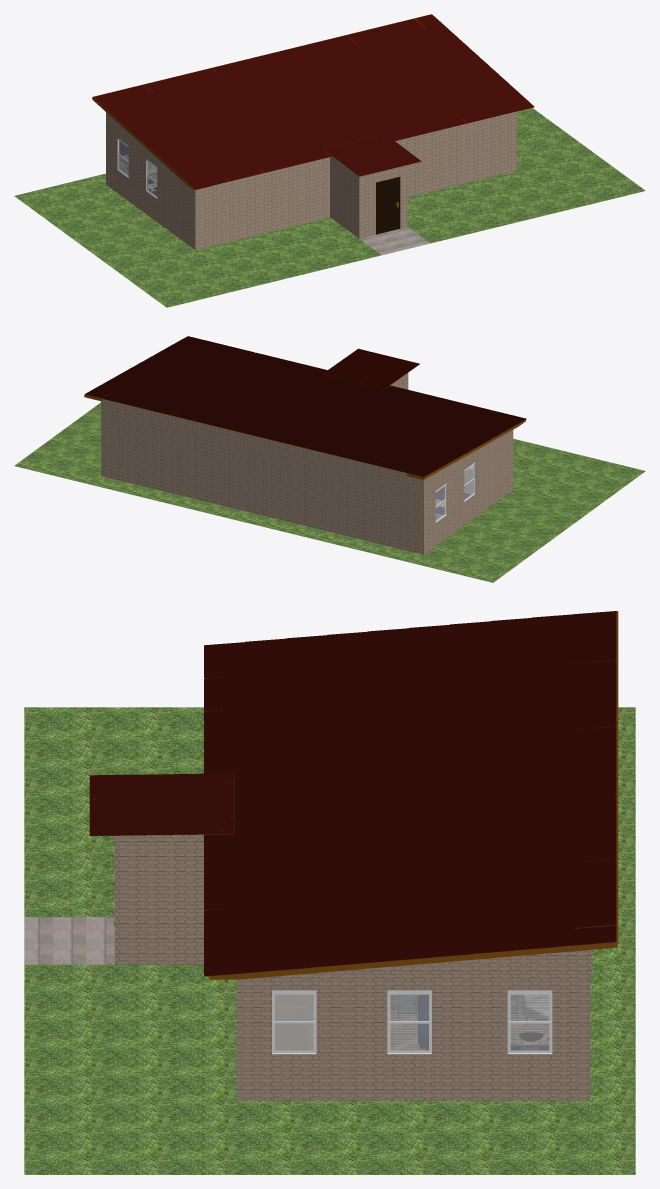
Rendered from Home.obj.
3 renders of one model, top to bottom at view 1: azimuth 30°, elevation 25°; view 2: azimuth 150°, elevation 25°; view 3: azimuth 270°, elevation 25°, orthographic. The views are drawn at different scales.
Parts seen in each view (by area): view 1: Tuile_1_879, room_31_185, room_32_186, wall_18_121, wall_7_45, wall_13_87, Tuile_1_883, wall_10_66, wall_9_59, wall_19_127, sweethome3d_opening_on_hinge_1_door_215, room_34_188 (+1 smaller); view 2: Tuile_1_879, wall_14_94, room_31_185, wall_4_24, wall_27_176, room_33_187, room_32_186, wall_13_87, Tuile_1_883, wall_19_127, wall_20_134, Planche_4_882 (+1 smaller); view 3: Tuile_1_879, room_32_186, wall_1_4, room_31_185, wall_6_38, wall_8_52, room_33_187, Tuile_1_883, room_34_188, wall_26_170, Poutre_2_880, room_29_181 (+8 smaller).
Boxes of the visible parts, x1,y1,x2,y2 form: Tuile_1_879: (93, 14, 534, 189); room_31_185: (14, 176, 381, 307); room_32_186: (407, 108, 645, 243); wall_18_121: (195, 157, 329, 249); wall_7_45: (395, 111, 516, 196); wall_13_87: (106, 122, 168, 230); Tuile_1_883: (324, 134, 421, 176); wall_10_66: (330, 156, 359, 238); wall_9_59: (359, 165, 407, 238); wall_19_127: (168, 169, 195, 249); sweethome3d_opening_on_hinge_1_door_215: (377, 178, 399, 234); room_34_188: (359, 227, 429, 255); Tuile_1_879: (85, 336, 526, 476); wall_14_94: (194, 437, 423, 554); room_31_185: (413, 438, 645, 582); wall_4_24: (101, 414, 195, 499); wall_27_176: (101, 399, 423, 492); room_33_187: (90, 476, 423, 563); room_32_186: (14, 402, 101, 484); wall_13_87: (424, 446, 486, 554); Tuile_1_883: (322, 348, 419, 389); wall_19_127: (487, 430, 513, 508); wall_20_134: (424, 439, 496, 491); Planche_4_882: (84, 354, 522, 477); Tuile_1_879: (204, 611, 616, 976); room_32_186: (24, 964, 635, 1174); wall_1_4: (347, 975, 590, 1100); room_31_185: (24, 707, 635, 917); wall_6_38: (236, 975, 351, 1100); wall_8_52: (114, 839, 206, 964); room_33_187: (590, 786, 635, 1100); Tuile_1_883: (89, 773, 233, 835); room_34_188: (24, 917, 114, 964); wall_26_170: (288, 949, 591, 975); Poutre_2_880: (209, 942, 617, 979); room_29_181: (275, 995, 313, 1050).
Bounding box in the file's own units: 2004 × 337 × 1107.
